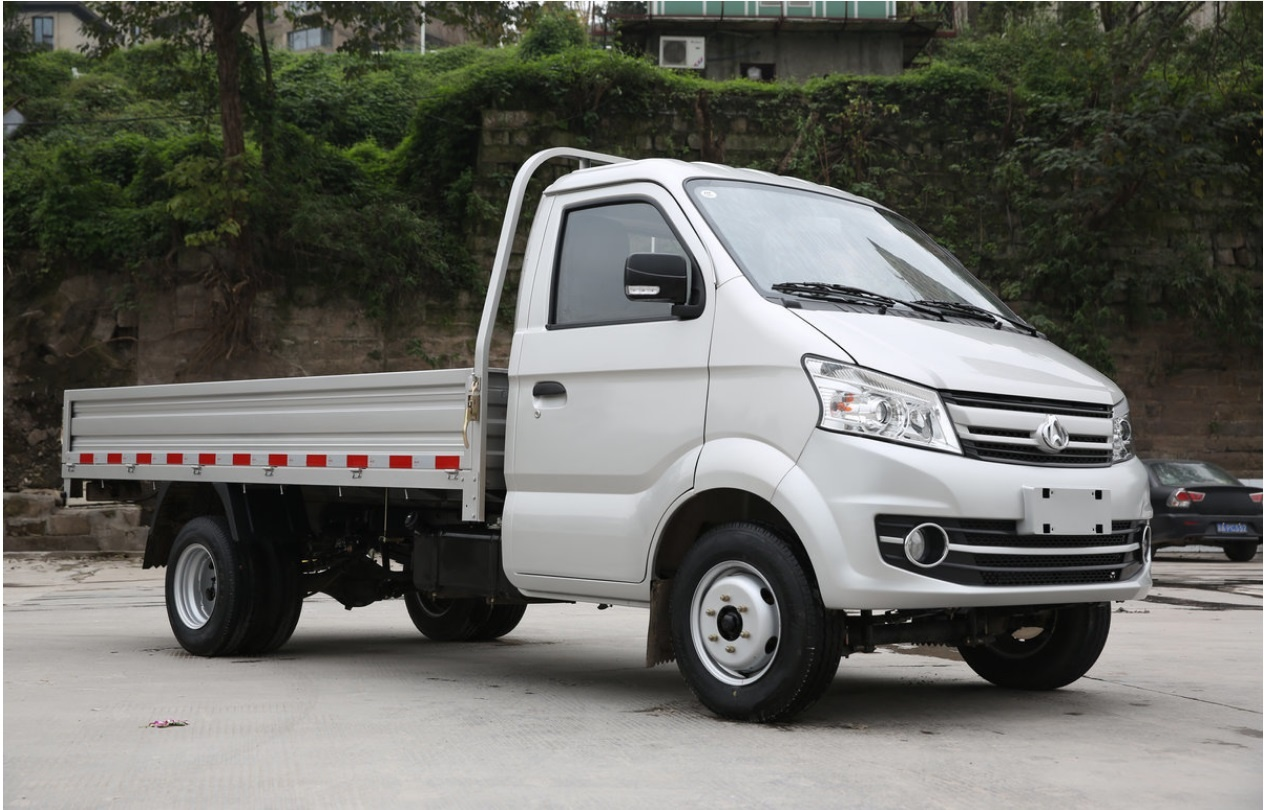truck: (60, 131, 1137, 716)
